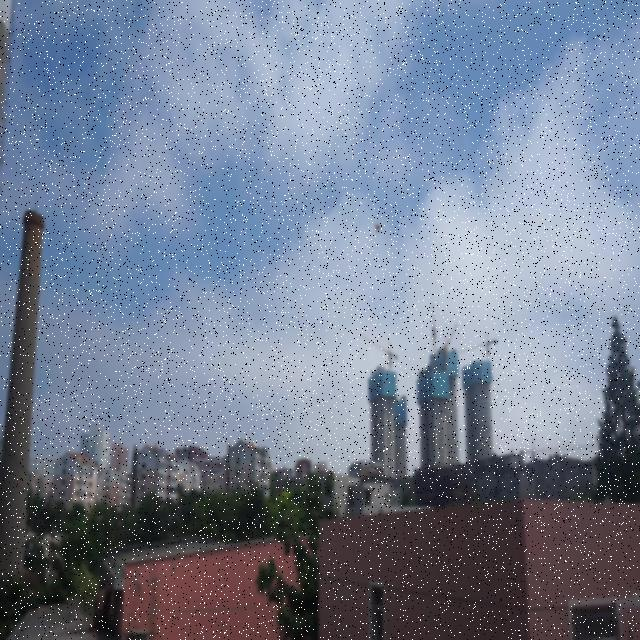UAV: (374, 218, 384, 234)
